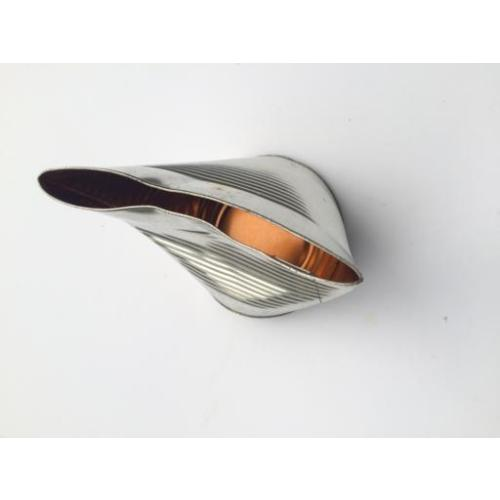metal: (43, 151, 367, 313)
